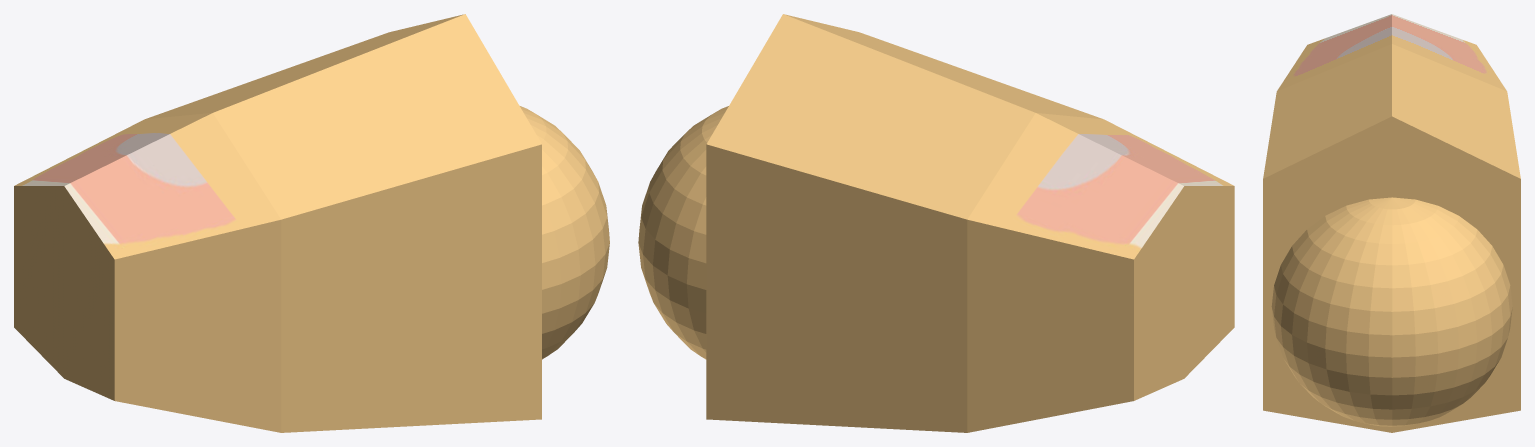
Rendered from R_finger0_1.obj.
The picture shows the model from 3 angles, left to right: view 1: azimuth 30°, elevation 25°; view 2: azimuth 150°, elevation 25°; view 3: azimuth 270°, elevation 25°; orthographic projection. The views are drawn at different scales.
Parts seen in each view (by area): view 1: finger0_1球.001_球.029; view 2: finger0_1球.001_球.029; view 3: finger0_1球.001_球.029.
Part boxes in pixels (<box>): finger0_1球.001_球.029: <box>14,14,609,432</box>; finger0_1球.001_球.029: <box>638,14,1234,432</box>; finger0_1球.001_球.029: <box>1263,14,1520,432</box>.
Bounding box in the file's own units: 0.7012 × 0.4781 × 0.3528.
